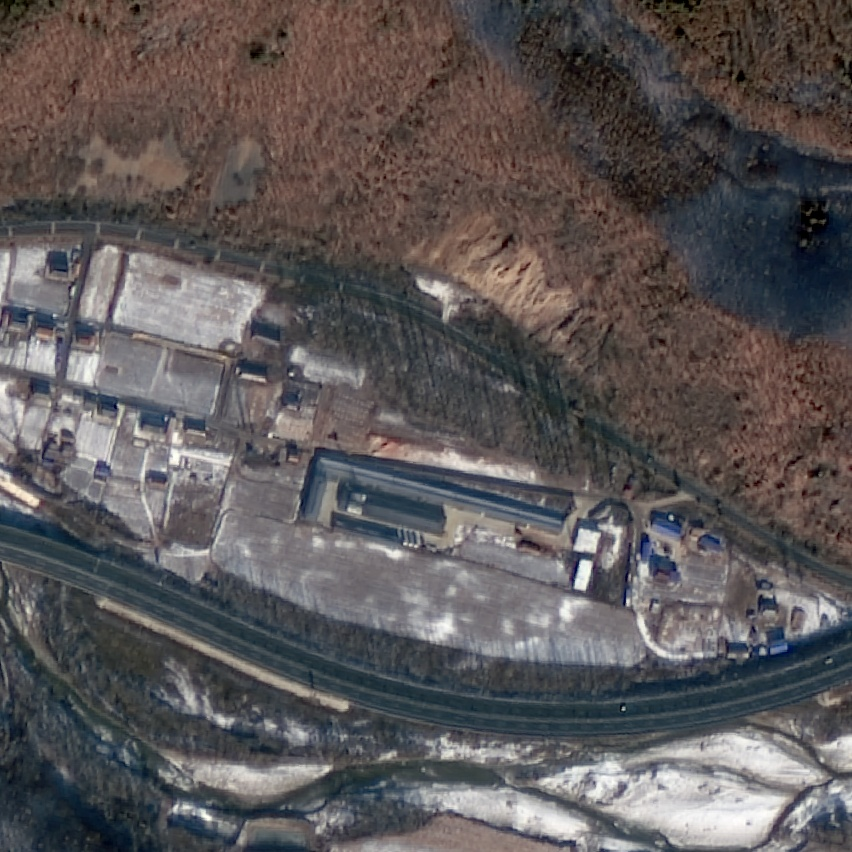slope: (393, 197, 609, 395)
